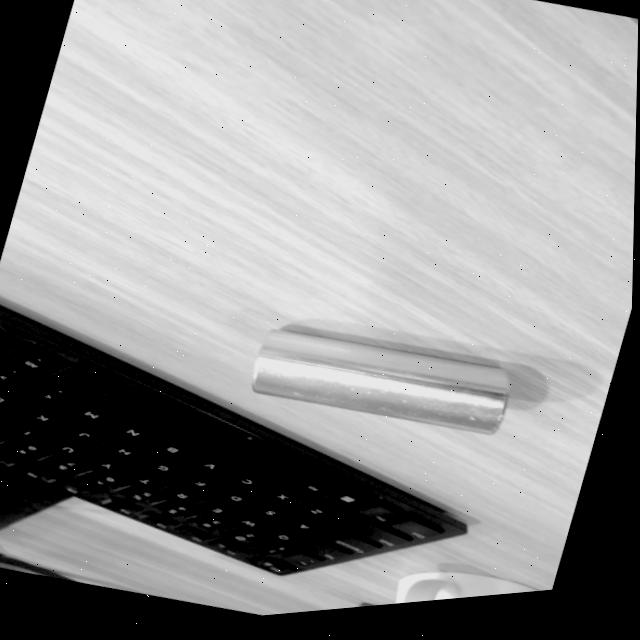Co_Lon: (249, 322, 513, 436)
